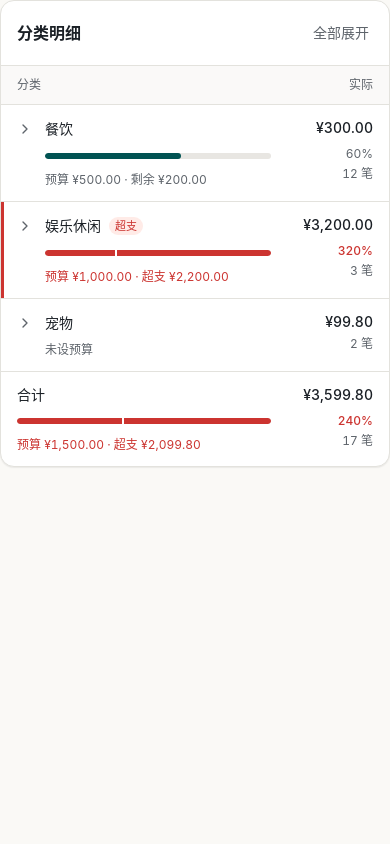
Test case: CategoryTable › shows the consumption count per row and for the total, folded under the amount when narrow
The image size is (390, 844).
Click the button named "展开「餐饮」的二级分类": (25, 129) 13,117 -> 37,141
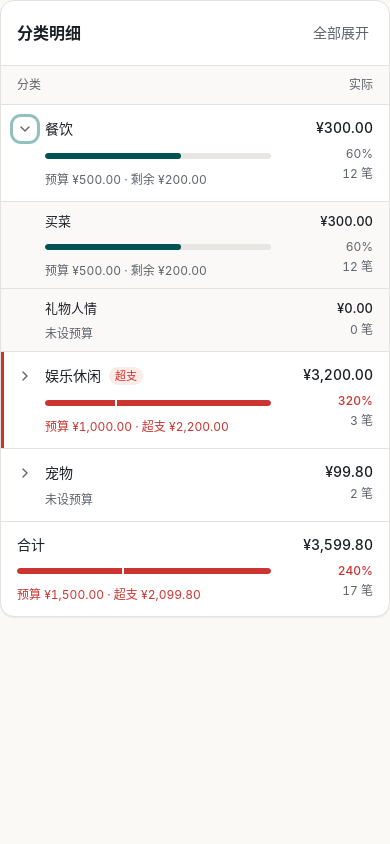
Check: the text "0 笔" is shown, box 350,322 -> 373,337
